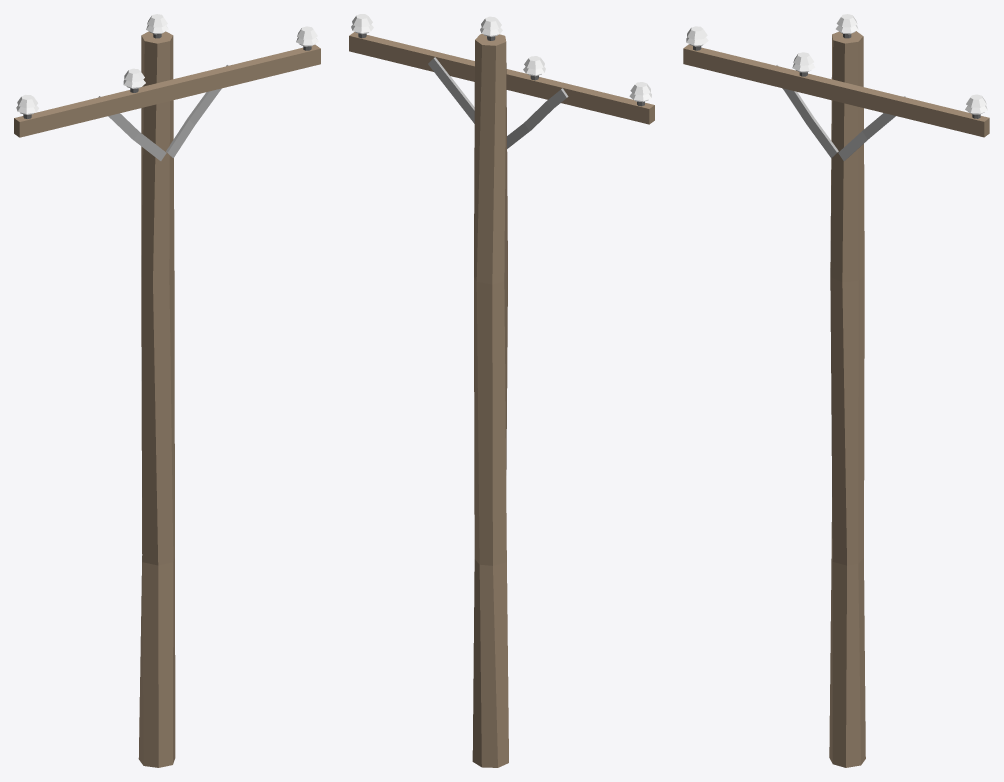
Rendered from utility_pole.glb.
3 renders of one model, left to right at view 1: azimuth 30°, elevation 25°; view 2: azimuth 150°, elevation 25°; view 3: azimuth 330°, elevation 25°, orthographic.
Parts seen in each view (by area): view 1: UtilityPole; view 2: UtilityPole; view 3: UtilityPole.
Boxes of the visible parts, x1,y1,x2,y2 form: UtilityPole: [14, 14, 320, 767]; UtilityPole: [349, 14, 654, 767]; UtilityPole: [683, 14, 989, 767].
Bounding box in the file's own units: 5.05 × 11.9 × 0.7438.
1 material, 1 textured.
